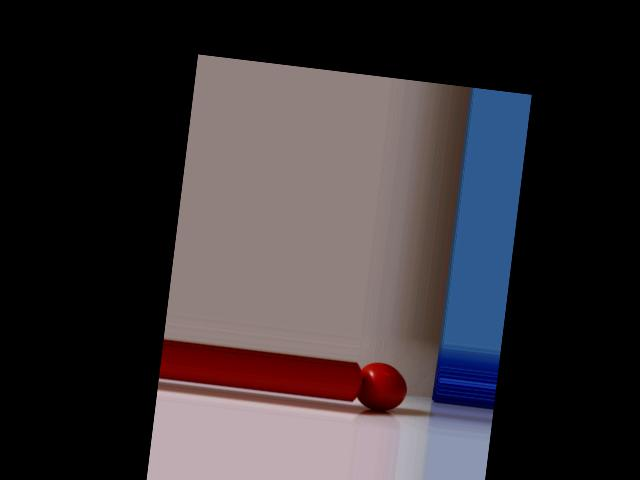tomato: (357, 361, 409, 413)
